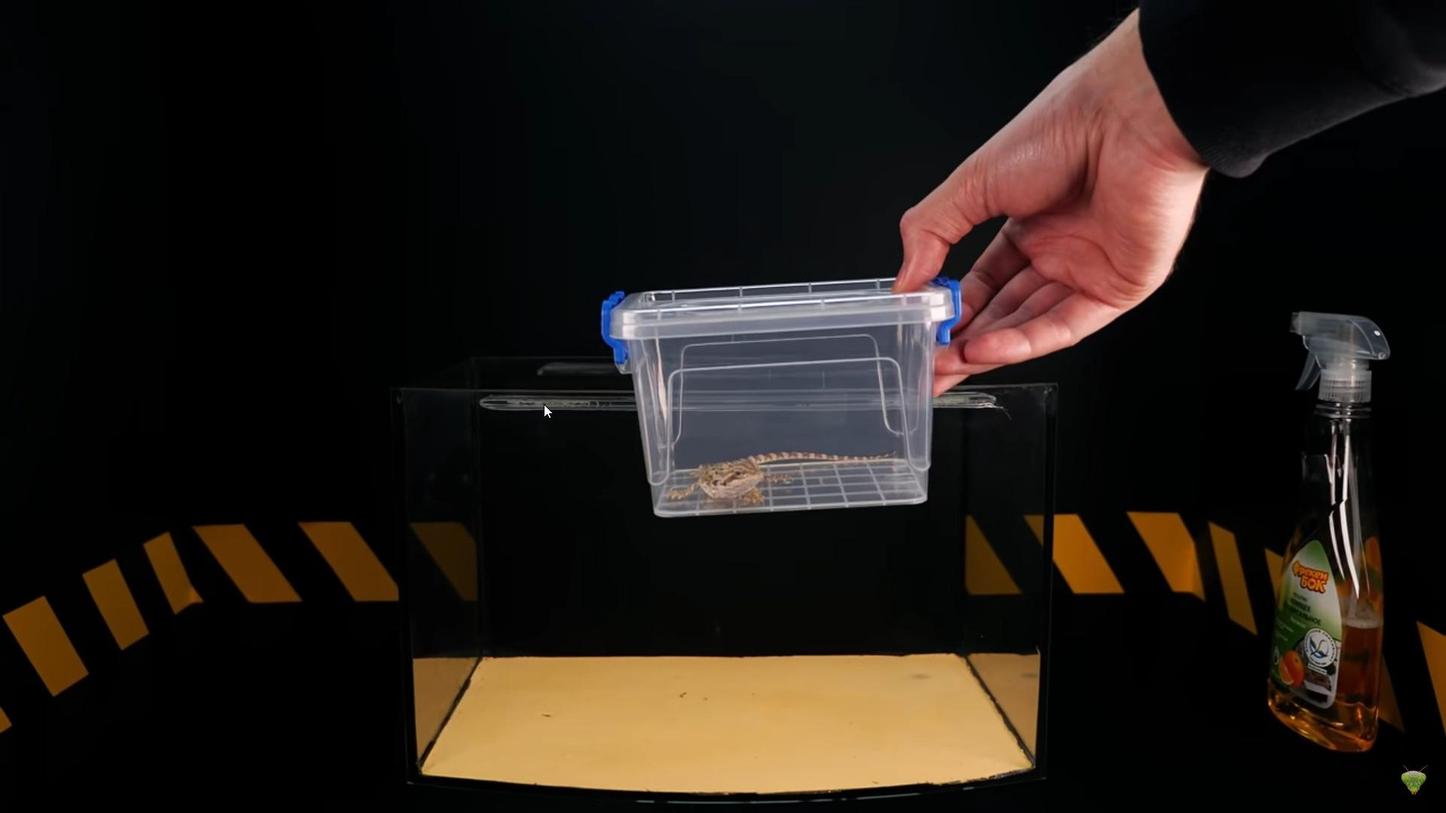lizard: (669, 444, 899, 506)
